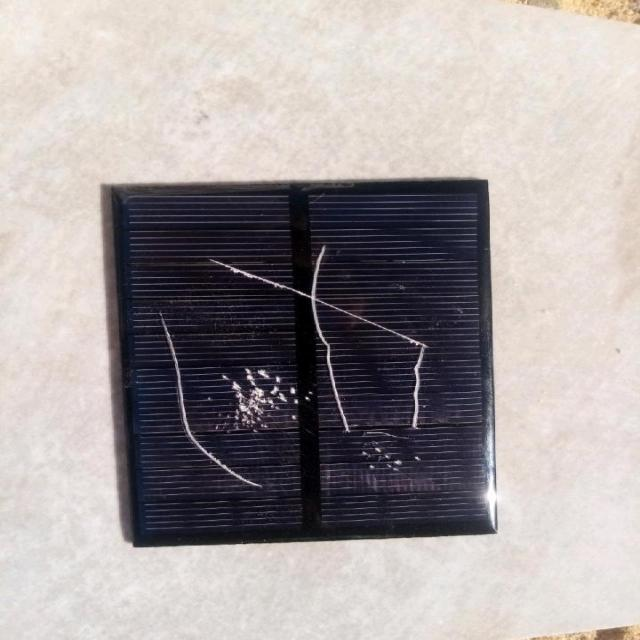faulty: (120, 175, 491, 545)
